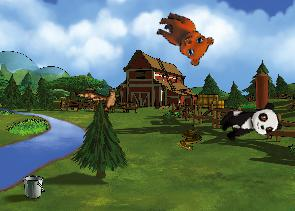bear: (148, 8, 217, 69)
eagle: (74, 72, 132, 124)
panda: (217, 100, 282, 145)
